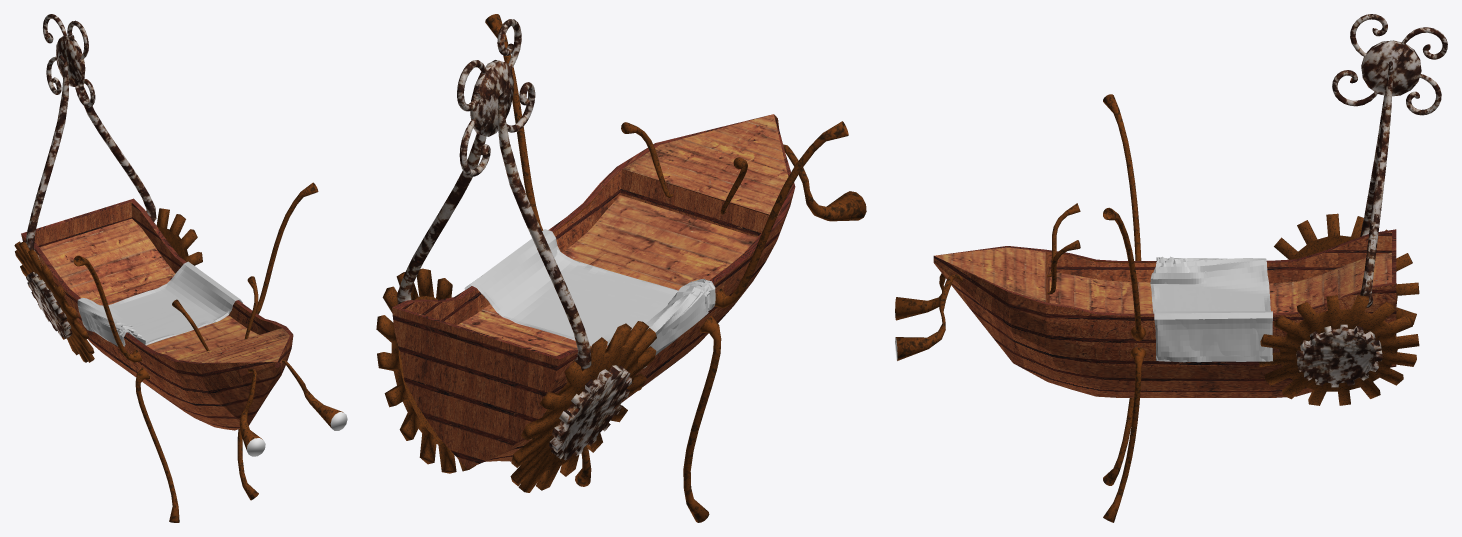
Rendered from Sky Schooner.fbx.
3 renders of one model, left to right at view 1: azimuth 30°, elevation 25°; view 2: azimuth 150°, elevation 25°; view 3: azimuth 270°, elevation 25°, orthographic. The views are drawn at different scales.
Visible parts, largest first — view 1: Horns, Plane, Gear2, Wheel, Gear1; view 2: Horns, Plane, Gear2, Wheel, Gear1; view 3: Horns, Plane, Gear2, Wheel, Gear1.
Boxes of the visible parts, x1=… form: Horns: x1=21, y1=55, x2=347, y2=522; Plane: x1=77, y1=261, x2=242, y2=346; Gear2: x1=14, y1=208, x2=202, y2=362; Wheel: x1=43, y1=14, x2=95, y2=107; Gear1: x1=26, y1=271, x2=72, y2=338; Horns: x1=392, y1=14, x2=866, y2=522; Plane: x1=464, y1=229, x2=715, y2=368; Gear2: x1=376, y1=268, x2=656, y2=492; Wheel: x1=457, y1=19, x2=535, y2=176; Gear1: x1=549, y1=365, x2=631, y2=460; Horns: x1=895, y1=61, x2=1396, y2=522; Plane: x1=1150, y1=256, x2=1272, y2=362; Gear2: x1=1259, y1=213, x2=1419, y2=405; Wheel: x1=1332, y1=14, x2=1447, y2=115; Gear1: x1=1296, y1=324, x2=1382, y2=387.
Bounding box in the file's own units: 549 × 896 × 936.
